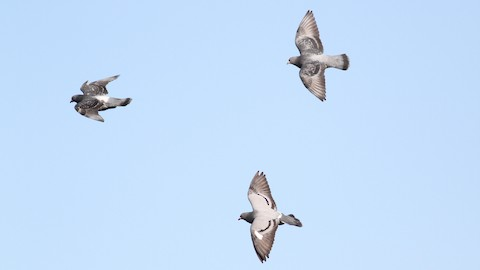pigeon: (237, 165, 307, 264), (284, 7, 355, 103), (66, 67, 134, 129)
